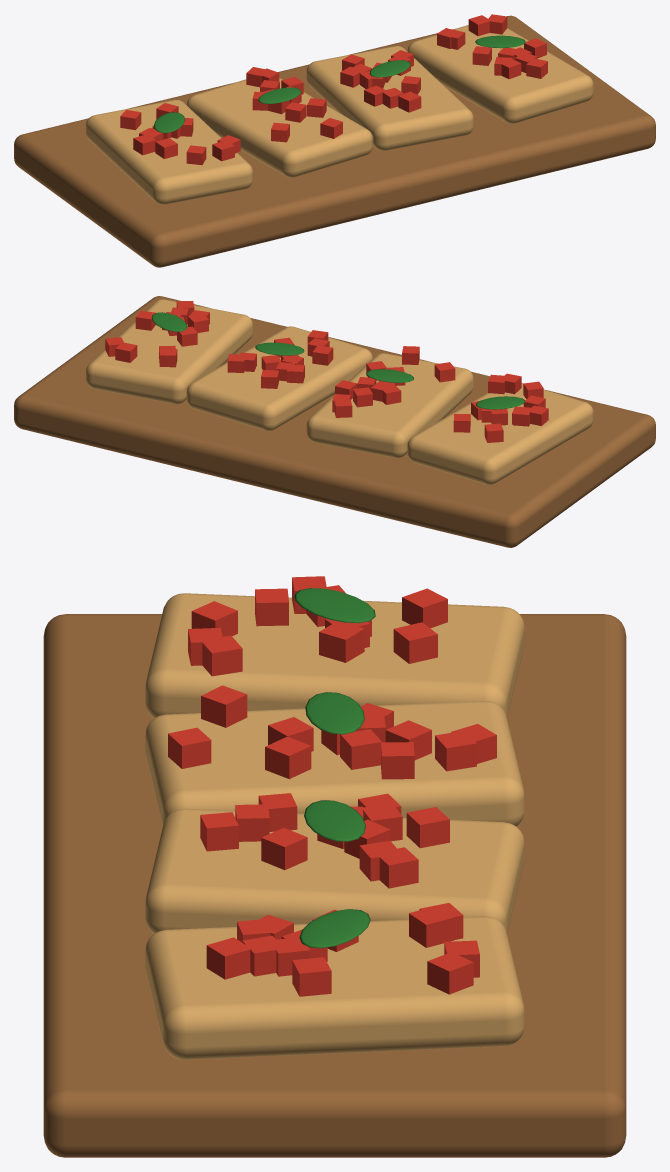
The model's file is bruschetta.glb.
3 renders of one model, top to bottom at view 1: azimuth 30°, elevation 25°; view 2: azimuth 150°, elevation 25°; view 3: azimuth 270°, elevation 25°, orthographic. The views are drawn at different scales.
Visible parts, largest first — view 1: bruschetta; view 2: bruschetta; view 3: bruschetta.
Boxes of the visible parts, box(x1,y1,x2,y2) form: bruschetta: box(14, 14, 655, 267); bruschetta: box(14, 296, 655, 547); bruschetta: box(43, 576, 626, 1157).
Size of the model in its own units: 0.32 by 0.047 by 0.16.
